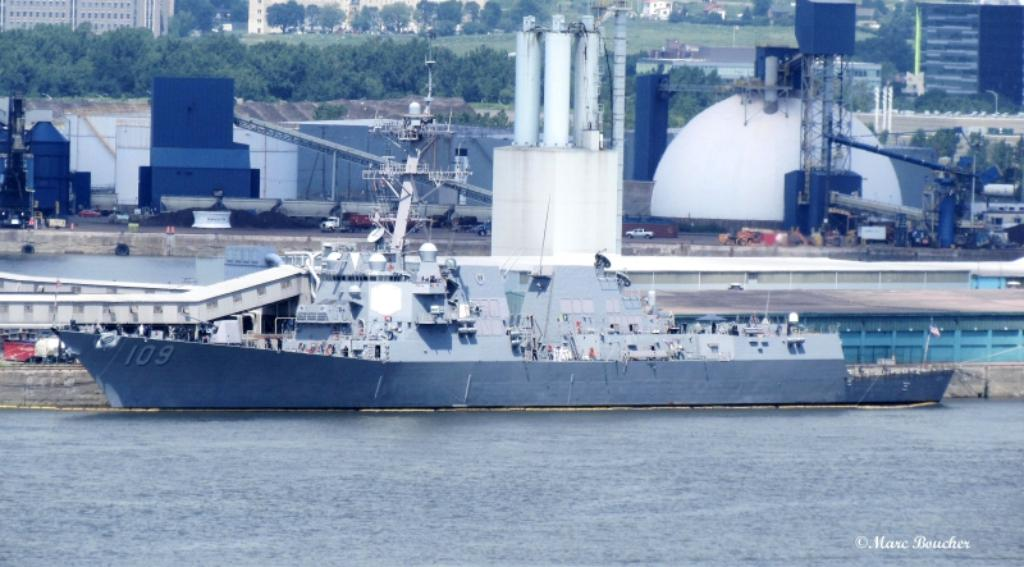Warship: (44, 57, 958, 415)
